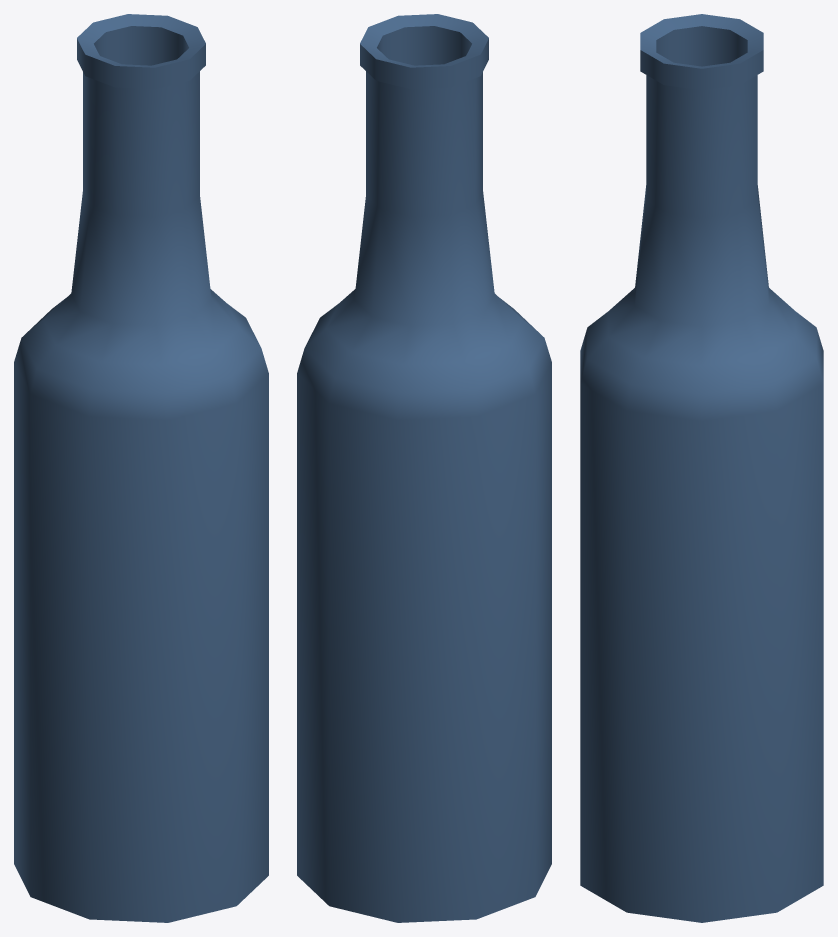
Rendered from bote.fbx.
The picture shows the model from 3 angles, left to right: view 1: azimuth 30°, elevation 25°; view 2: azimuth 150°, elevation 25°; view 3: azimuth 270°, elevation 25°; orthographic projection.
Parts seen in each view (by area): view 1: trashes.006; view 2: trashes.006; view 3: trashes.006.
Part boxes in pixels (x1,y1,x2,y2): trashes.006: (14, 14, 268, 922); trashes.006: (297, 14, 551, 922); trashes.006: (580, 14, 823, 922).
Size of the model in its own units: 27.1 by 96.79 by 25.77.
